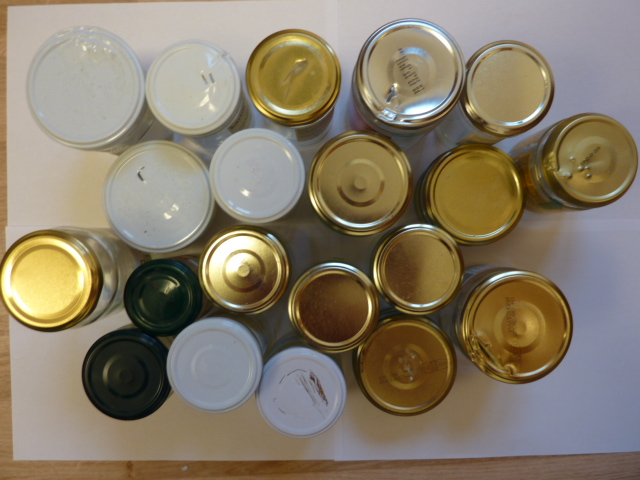damaged: (105, 142, 214, 253), (356, 17, 463, 126), (245, 29, 340, 123), (146, 40, 240, 135)
intact: (311, 132, 411, 236), (355, 321, 456, 417), (3, 233, 94, 331), (123, 261, 198, 336)
